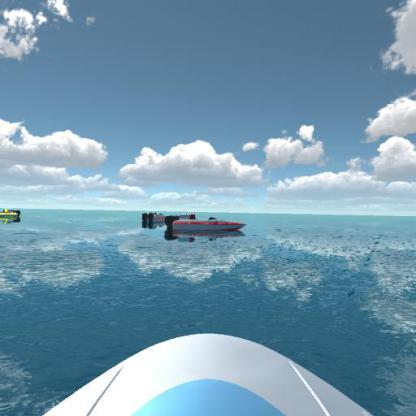usv2: (0, 203, 23, 226)
usv3: (164, 213, 247, 242), (134, 209, 175, 228)
